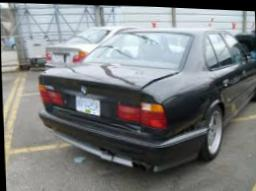Bumper: (44, 121, 162, 168), (157, 101, 207, 167)
Dickey: (41, 61, 182, 132)
